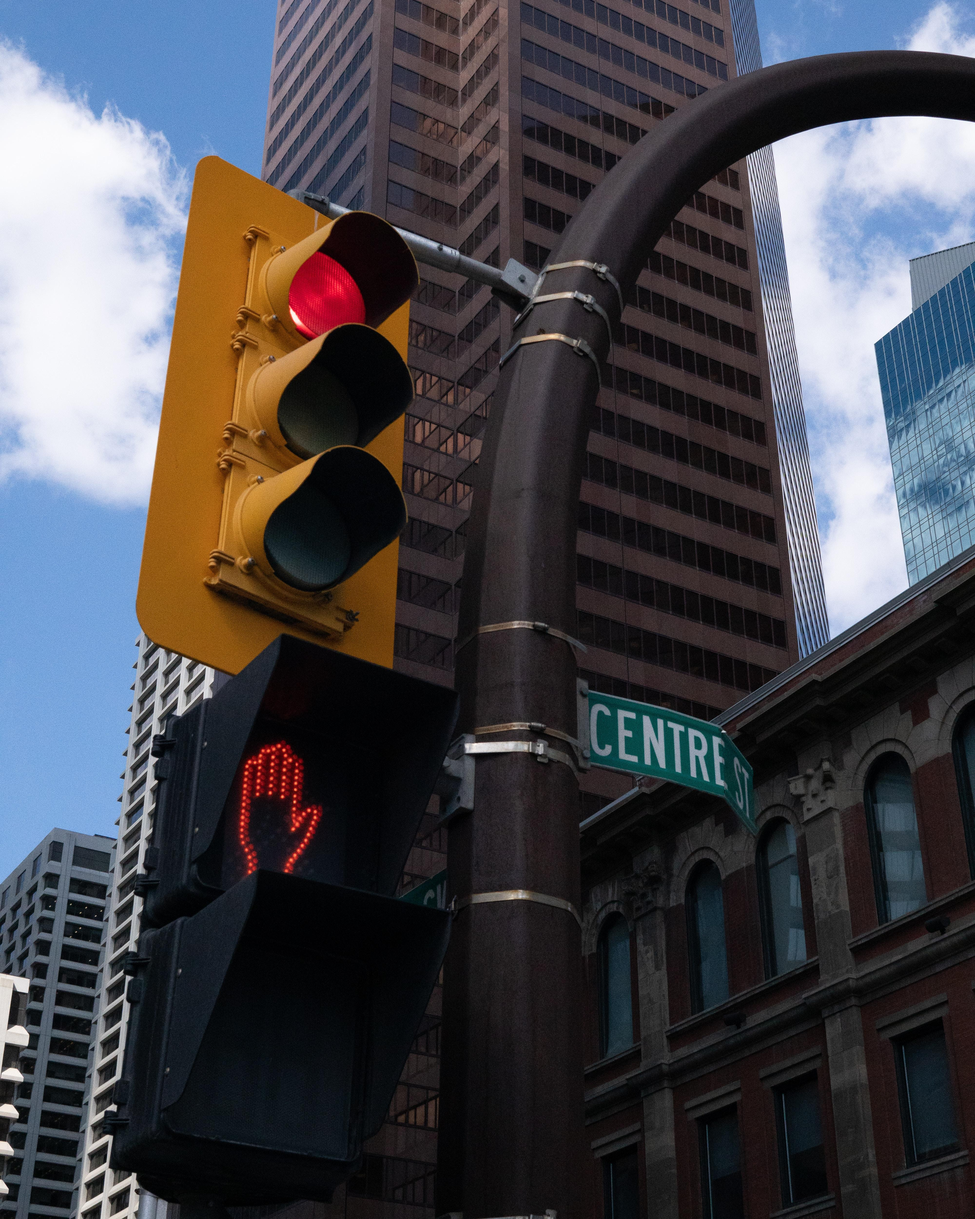red: (163, 149, 451, 661)
